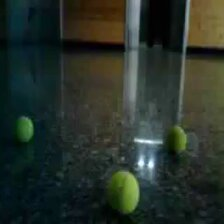tennis: (106, 170, 141, 214), (165, 125, 187, 155), (14, 115, 34, 144)
